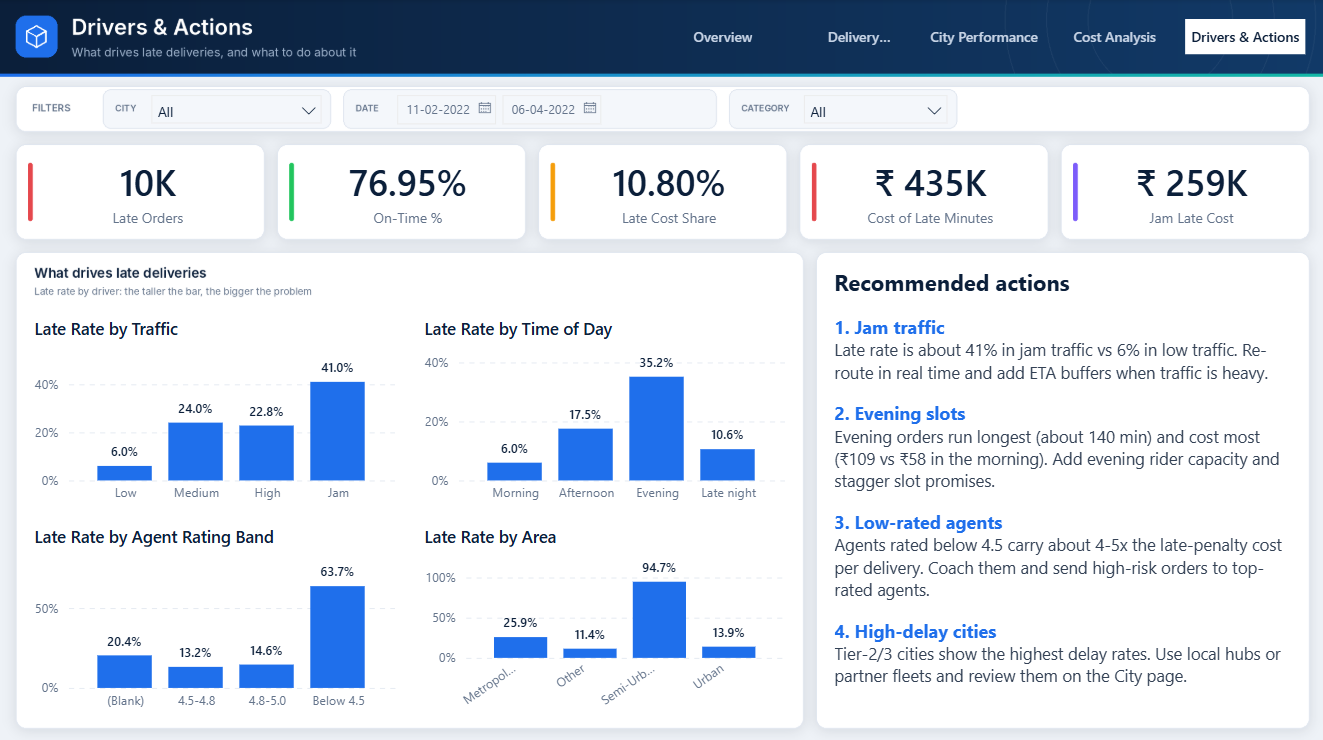

This screenshot's page, from the dashboard's own definition file:
{"tool":"powerbi","page":{"name":"Drivers & Actions","canvas":[1280,720],"ordinal":4},"visuals":[{"type":"card","fields":{"Values":["vw_delivery_analysis.Late Orders"]},"box":[38,144,210,84],"z":1000},{"type":"card","fields":{"Values":["vw_delivery_analysis.On-Time %"]},"box":[290,144,210,84],"z":2000},{"type":"card","fields":{"Values":["vw_delivery_analysis.Late Cost Share"]},"box":[542,144,210,84],"z":3000},{"type":"card","fields":{"Values":["vw_delivery_analysis.Cost of Late Minutes"]},"box":[794,144,210,84],"z":4000},{"type":"card","fields":{"Values":["vw_delivery_analysis.Jam Late Cost"]},"box":[1046,144,210,84],"z":5000},{"type":"slicer","fields":{"Values":["vw_delivery_analysis.city"]},"box":[142,88,174,36],"z":6000},{"type":"slicer","fields":{"Values":["vw_delivery_analysis.order_date"]},"box":[376,88,312,36],"z":7000},{"type":"slicer","fields":{"Values":["vw_delivery_analysis.category"]},"box":[772,88,148,36],"z":8000},{"type":"clusteredColumnChart","title":"Late Rate by Traffic","fields":{"Category":["vw_delivery_analysis.traffic"],"Y":["vw_delivery_analysis.Late Rate"]},"box":[24,300,368,195],"z":9000},{"type":"clusteredColumnChart","title":"Late Rate by Time of Day","fields":{"Category":["vw_delivery_analysis.time_of_day"],"Y":["vw_delivery_analysis.Late Rate"]},"box":[400,300,368,195],"z":10000},{"type":"clusteredColumnChart","title":"Late Rate by Agent Rating Band","fields":{"Category":["vw_delivery_analysis.agent_rating_band"],"Y":["vw_delivery_analysis.Late Rate"]},"box":[24,501,368,195],"z":11000},{"type":"clusteredColumnChart","title":"Late Rate by Area","fields":{"Category":["vw_delivery_analysis.area"],"Y":["vw_delivery_analysis.Late Rate"]},"box":[400,501,368,195],"z":12000},{"type":"textbox","box":[796,252,460,444],"z":13000},{"type":"pageNavigator","box":[640,19,624,34],"z":14000}]}

Visuals, with their boxes in screenshot pixels (x1, y1, x2, y2), scaled from the page's 1280x720 canvas onto the 1323x740 screenshot:
card - vw_delivery_analysis.Late Orders: {"x1": 39, "y1": 148, "x2": 256, "y2": 234}
card - vw_delivery_analysis.On-Time %: {"x1": 300, "y1": 148, "x2": 517, "y2": 234}
card - vw_delivery_analysis.Late Cost Share: {"x1": 560, "y1": 148, "x2": 777, "y2": 234}
card - vw_delivery_analysis.Cost of Late Minutes: {"x1": 821, "y1": 148, "x2": 1038, "y2": 234}
card - vw_delivery_analysis.Jam Late Cost: {"x1": 1081, "y1": 148, "x2": 1298, "y2": 234}
slicer - vw_delivery_analysis.city: {"x1": 147, "y1": 90, "x2": 327, "y2": 127}
slicer - vw_delivery_analysis.order_date: {"x1": 389, "y1": 90, "x2": 711, "y2": 127}
slicer - vw_delivery_analysis.category: {"x1": 798, "y1": 90, "x2": 951, "y2": 127}
"Late Rate by Traffic" clusteredColumnChart: {"x1": 25, "y1": 308, "x2": 405, "y2": 509}
"Late Rate by Time of Day" clusteredColumnChart: {"x1": 413, "y1": 308, "x2": 794, "y2": 509}
"Late Rate by Agent Rating Band" clusteredColumnChart: {"x1": 25, "y1": 515, "x2": 405, "y2": 715}
"Late Rate by Area" clusteredColumnChart: {"x1": 413, "y1": 515, "x2": 794, "y2": 715}
textbox: {"x1": 823, "y1": 259, "x2": 1298, "y2": 715}
pageNavigator: {"x1": 662, "y1": 20, "x2": 1306, "y2": 54}
